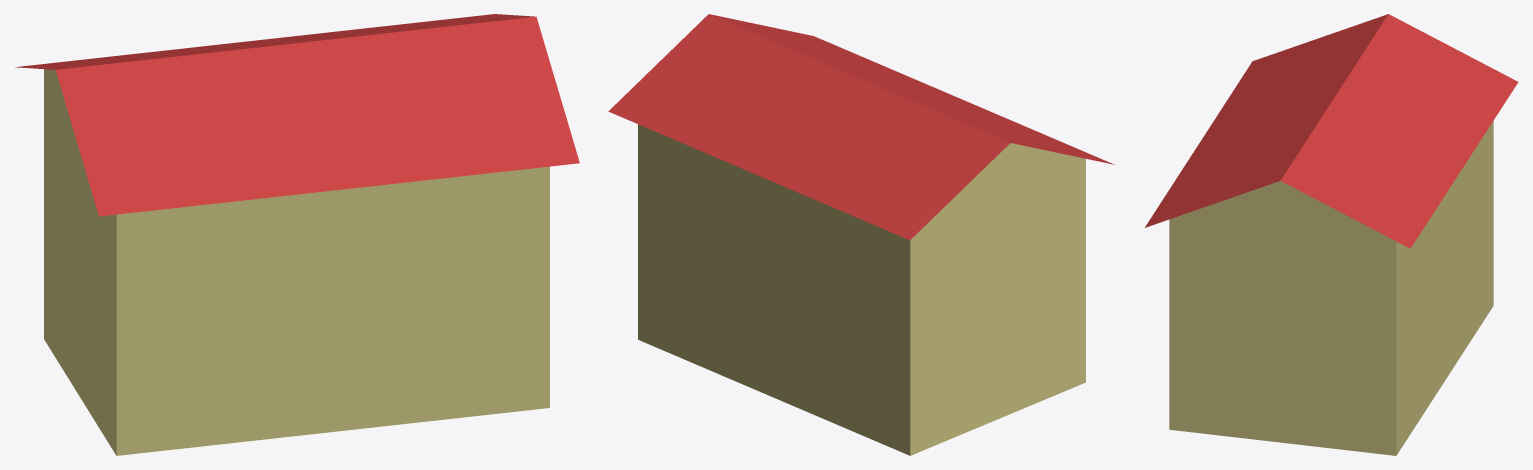
The picture shows the model from 3 angles, left to right: view 1: azimuth 30°, elevation 25°; view 2: azimuth 150°, elevation 25°; view 3: azimuth 270°, elevation 25°; orthographic projection. The views are drawn at different scales.
Visible parts, largest first — view 1: group_5, group_3, group_4; view 2: group_5, group_3, group_4; view 3: group_5, group_3, group_4.
Boxes of the visible parts, x1,y1,x2,y2 form: group_5: (44,69,549,455); group_3: (15,16,577,216); group_4: (24,14,579,165); group_5: (638,124,1085,455); group_3: (638,14,1114,240); group_4: (608,14,1014,239); group_5: (1169,121,1493,455); group_3: (1145,14,1517,230); group_4: (1145,14,1517,248).
Bounding box in the file's own units: 17.39 × 13.91 × 11.1.
